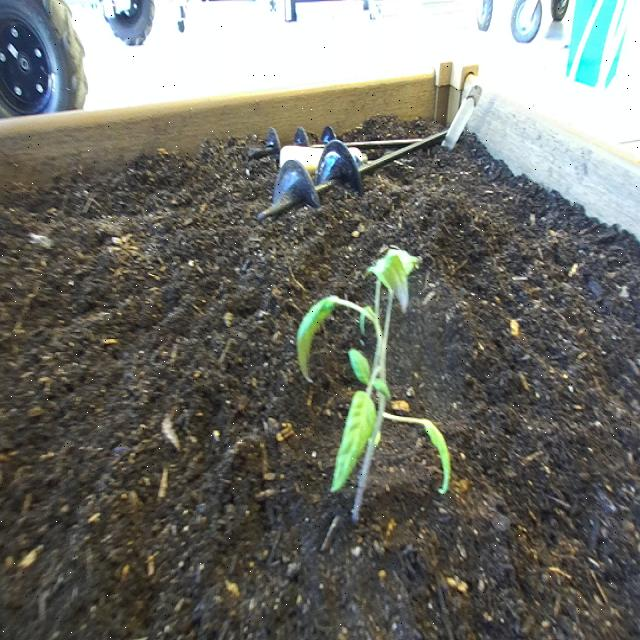Healthy: (292, 240, 459, 535)
